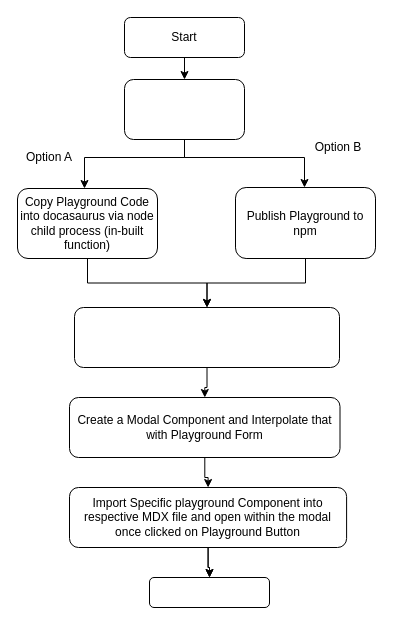
Some shapes in this 393 by 625 pixel diagram are drawn without their labels. The box of each missing label's shape, as (x1, y1, x2, y2) in pixels:
Create and Add Button Component for Playground form: (74, 306, 340, 368)
End: (148, 576, 270, 608)
Step1: Get Playground Code into Elements Codebase: (124, 78, 244, 140)
